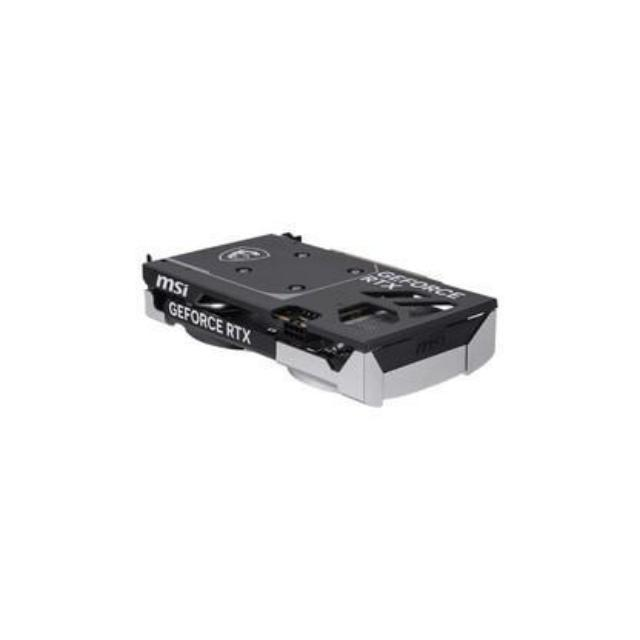GPU: (134, 227, 508, 416)
